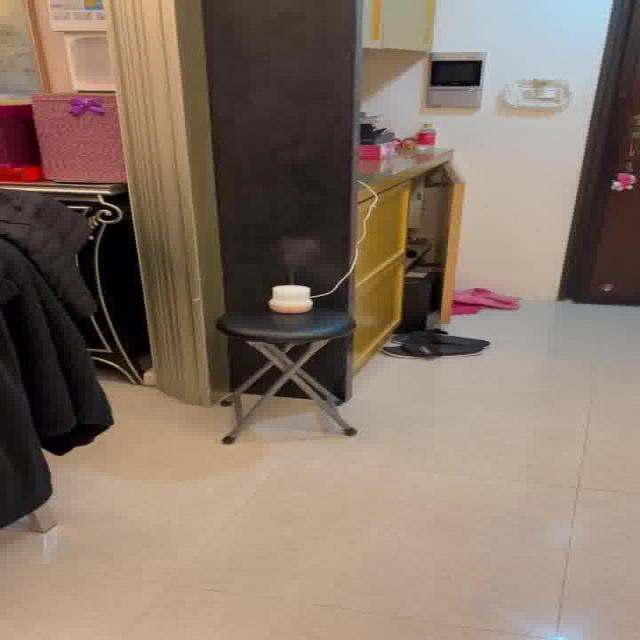fire: (272, 231, 324, 278)
